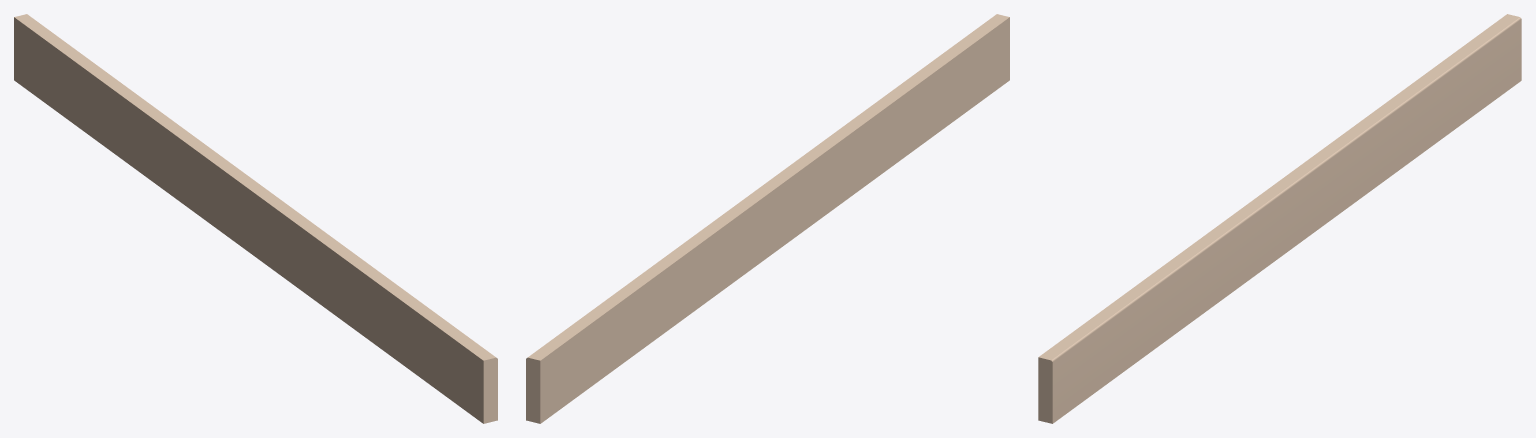
The model's file is Wall_Plinth.fbx.
3 renders of one model, left to right at view 1: azimuth 30°, elevation 25°; view 2: azimuth 150°, elevation 25°; view 3: azimuth 330°, elevation 25°, orthographic.
Visible parts, largest first — view 1: Wall_Plinth; view 2: Wall_Plinth; view 3: Wall_Plinth.
Boxes of the visible parts, <box> form: Wall_Plinth: <box>14,14,497,423</box>; Wall_Plinth: <box>526,14,1009,423</box>; Wall_Plinth: <box>1038,14,1521,423</box>.
Bounding box in the file's own units: 5.7 × 24.03 × 323.
